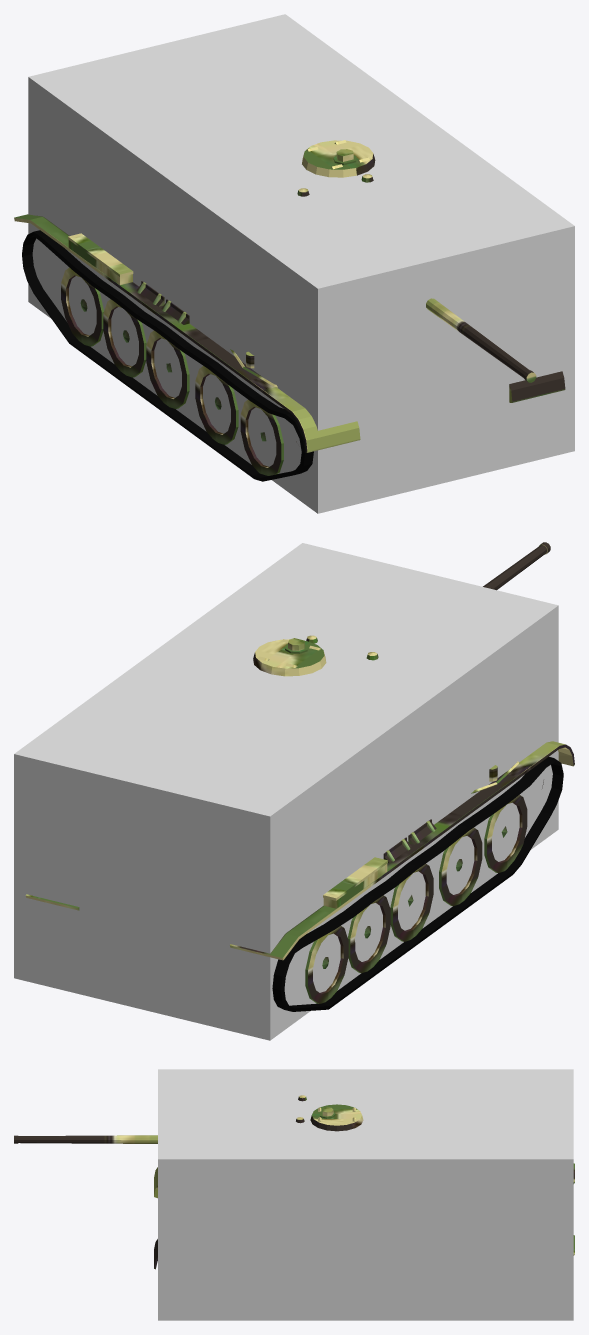
The model's file is t34PaintedAABB3.glb.
The picture shows the model from 3 angles, top to bottom: view 1: azimuth 30°, elevation 25°; view 2: azimuth 150°, elevation 25°; view 3: azimuth 270°, elevation 25°; orthographic projection. The views are drawn at different scales.
Parts seen in each view (by area): view 1: aabbBox, hull, Track_Right_Object_2.001, Wheels_Object_3, turret, gun; view 2: aabbBox, Track_Right_Object_2.001, Wheels_Object_3, hull, turret, gun; view 3: aabbBox, turret, gun.
Boxes of the visible parts, bbox=[...] form: aabbBox: bbox=[28, 14, 574, 513]; hull: bbox=[14, 214, 565, 452]; Track_Right_Object_2.001: bbox=[22, 230, 313, 481]; Wheels_Object_3: bbox=[61, 267, 296, 475]; turret: bbox=[297, 140, 375, 196]; gun: bbox=[426, 298, 536, 382]; aabbBox: bbox=[14, 543, 558, 1040]; Track_Right_Object_2.001: bbox=[272, 757, 563, 1011]; Wheels_Object_3: bbox=[305, 780, 543, 1003]; hull: bbox=[25, 741, 574, 960]; turret: bbox=[253, 635, 378, 676]; gun: bbox=[483, 542, 550, 590]; aabbBox: bbox=[158, 1069, 573, 1320]; turret: bbox=[296, 1095, 363, 1131]; gun: bbox=[14, 1135, 157, 1143].
Bounding box in the file's own units: 28.69 × 24.59 × 71.82.
3 materials, 1 textured.
